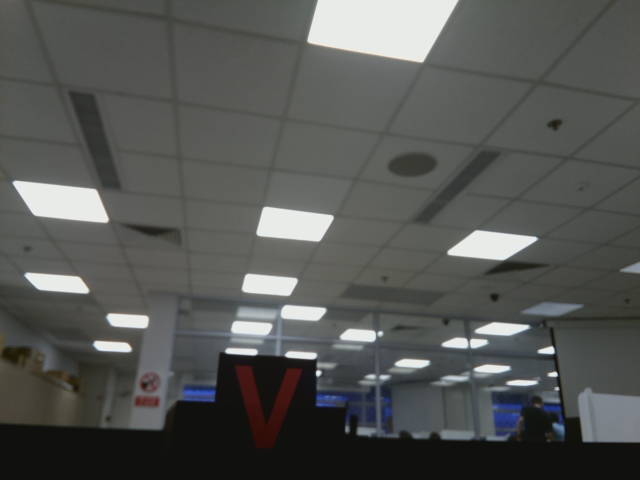v: (224, 353, 308, 452)
